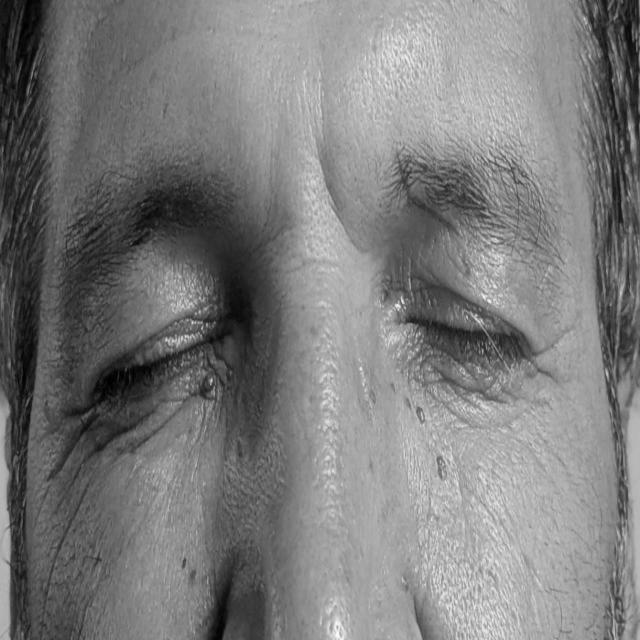real: (56, 200, 578, 504)
